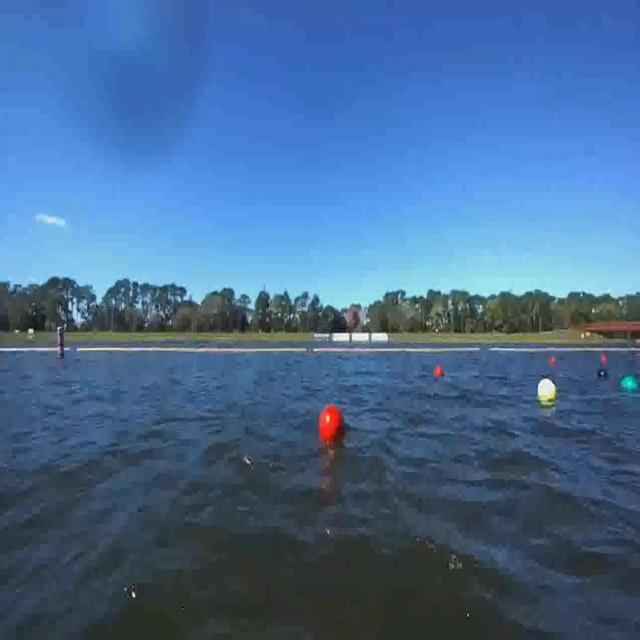red-buoy: (319, 406, 346, 442)
yellow-buoy: (539, 376, 558, 401)
